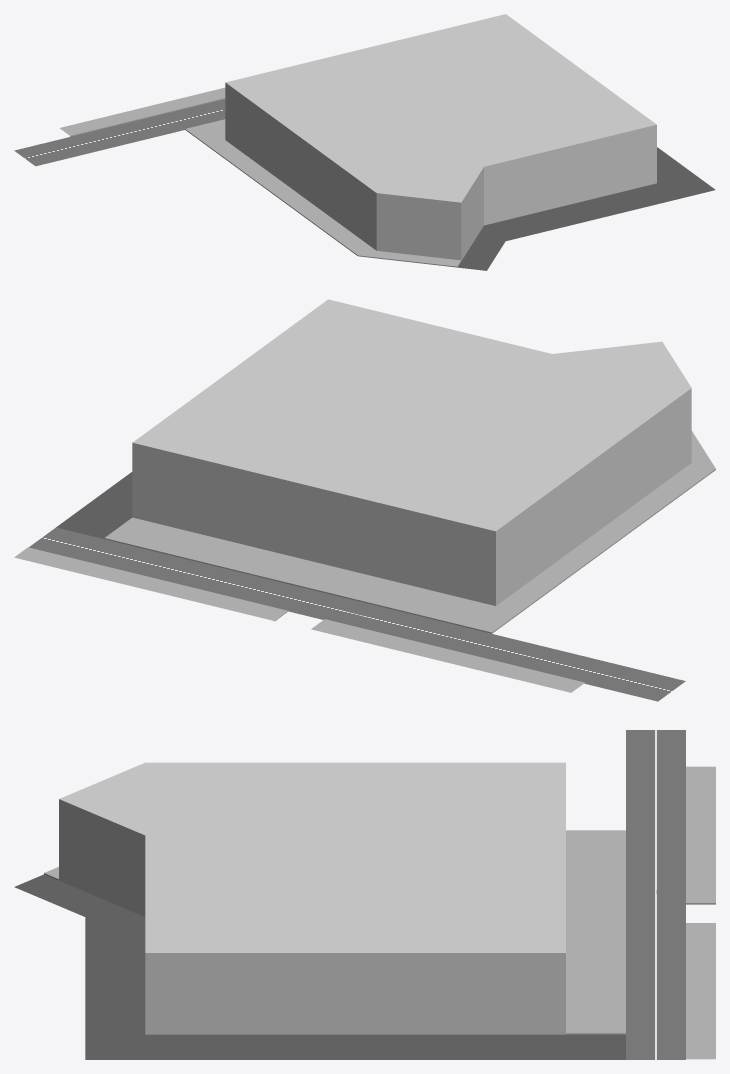
The model's file is alameda.glb.
3 renders of one model, top to bottom at view 1: azimuth 30°, elevation 25°; view 2: azimuth 150°, elevation 25°; view 3: azimuth 270°, elevation 25°, orthographic. The views are drawn at different scales.
Parts seen in each view (by area): view 1: Building, Sidewalk, Picasso, Alameda, Picadero; view 2: Building, Sidewalk, Alameda, Picadero; view 3: Building, Sidewalk, Alameda, Picadero, Picasso.
Part boxes in pixels (x1=…): Building: x1=225, y1=14, x2=656, y2=260; Sidewalk: x1=59, y1=87, x2=461, y2=267; Picasso: x1=457, y1=183, x2=678, y2=270; Alameda: x1=14, y1=99, x2=225, y2=166; Picadero: x1=657, y1=147, x2=715, y2=198; Building: x1=132, y1=299, x2=691, y2=605; Sidewalk: x1=14, y1=431, x2=715, y2=692; Alameda: x1=29, y1=527, x2=685, y2=701; Picadero: x1=56, y1=472, x2=132, y2=538; Building: x1=59, y1=762, x2=565, y2=1034; Sidewalk: x1=44, y1=766, x2=715, y2=1059; Alameda: x1=626, y1=730, x2=685, y2=1059; Picadero: x1=85, y1=1034, x2=625, y2=1059; Picasso: x1=14, y1=874, x2=145, y2=1034.
Size of what is drawn, in the model's own units: 104 by 12 by 93.5.
Materials: 5 (1 with a texture image).
